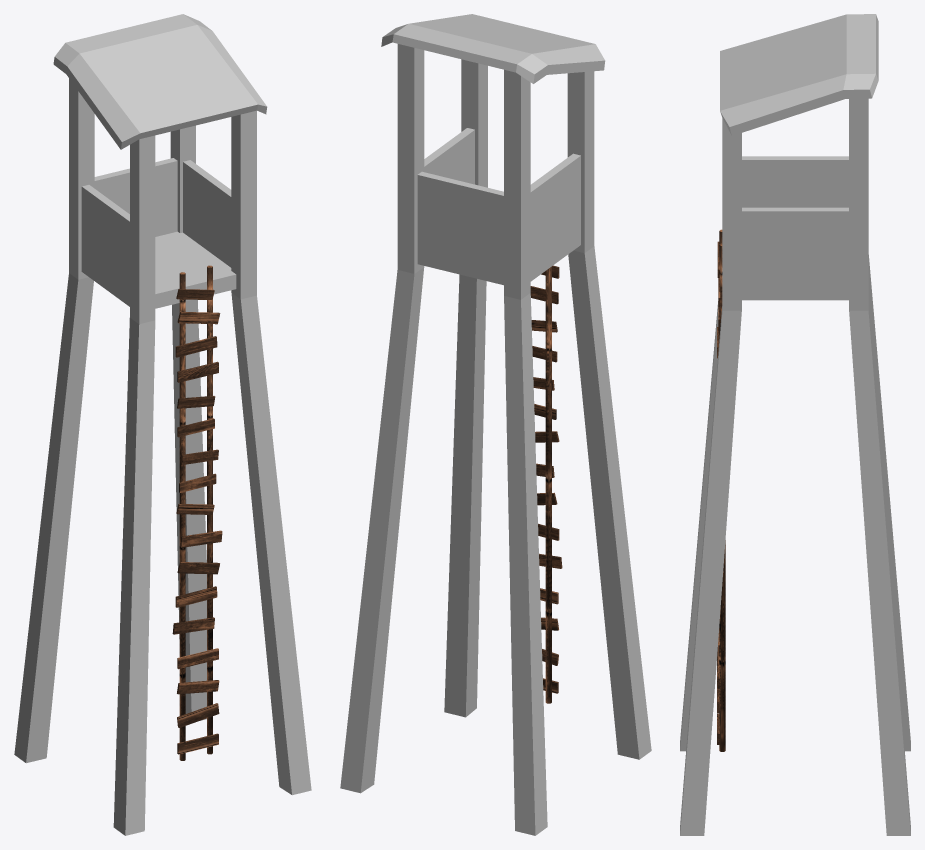
File: Watchtower.fbx
3 views of the same model, side by side, from view 1: azimuth 30°, elevation 25°; view 2: azimuth 150°, elevation 25°; view 3: azimuth 270°, elevation 25° (orthographic). The views are drawn at different scales.
Visible parts, largest first — view 1: Watchtower, Ladder; view 2: Watchtower, Ladder; view 3: Watchtower, Ladder.
Boxes of the visible parts, box(x1,y1,x2,y2) form: Watchtower: box(14, 14, 311, 835); Ladder: box(172, 265, 222, 760); Watchtower: box(340, 14, 651, 835); Ladder: box(530, 265, 562, 703); Watchtower: box(680, 14, 910, 835); Ladder: box(717, 229, 725, 751).
Size of the model in its own units: 6.86 by 7.07 by 25.18.
